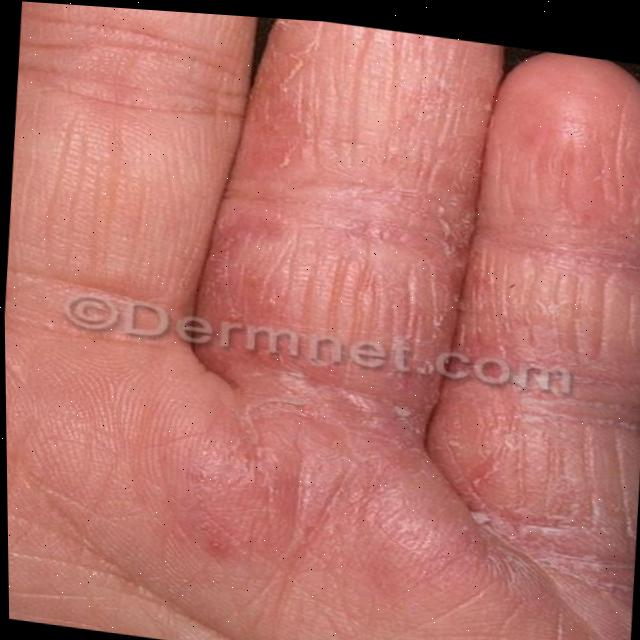Eczema: (221, 15, 640, 624)
